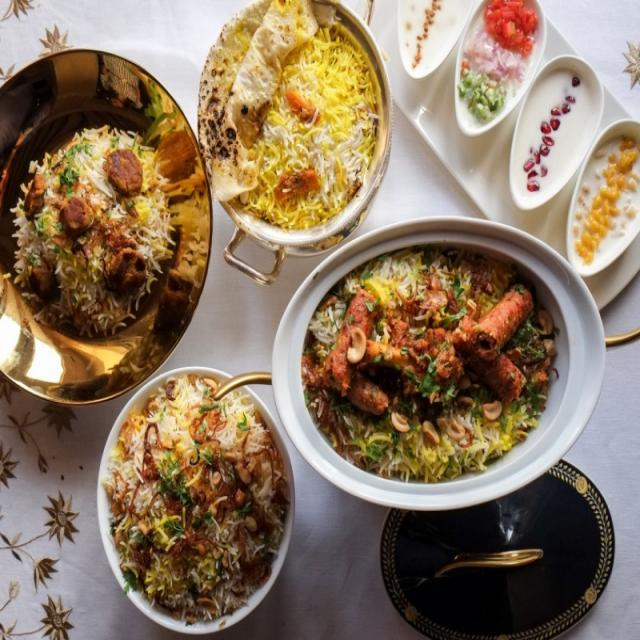Biryani: (299, 253, 570, 484), (102, 378, 279, 629), (4, 127, 175, 348), (224, 4, 378, 242)
